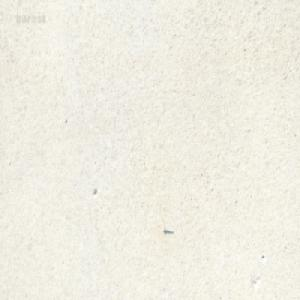Nail: (163, 227, 173, 234)
